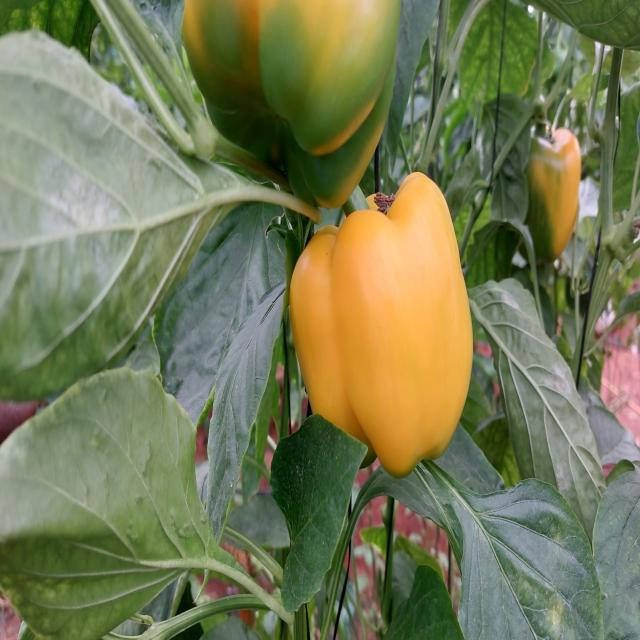Yellow-Ready-to-Harvest: (288, 176, 474, 475)
